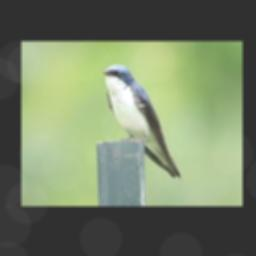Swallow: (100, 64, 181, 178)
